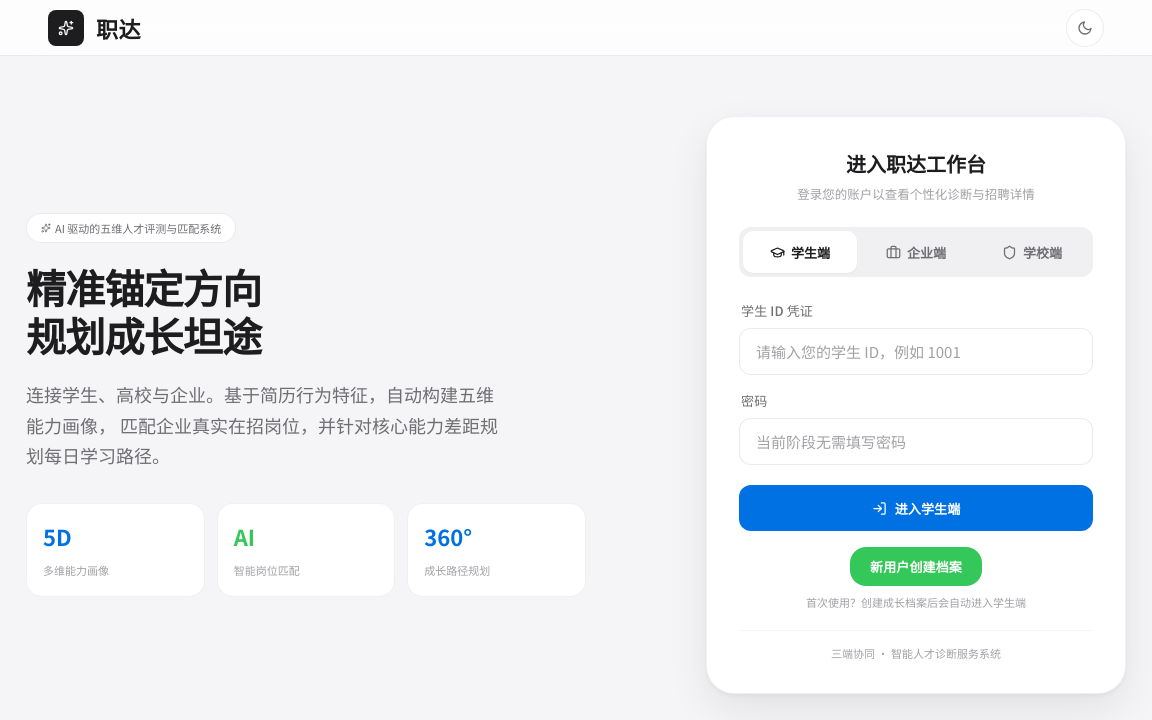
Test: Home - 企业登录状态校验 › 选择 disabled 企业提交时显示禁用提示
The image size is (1152, 720).
Click the button "企业端".
click(916, 252)  # box [859,231,973,273]
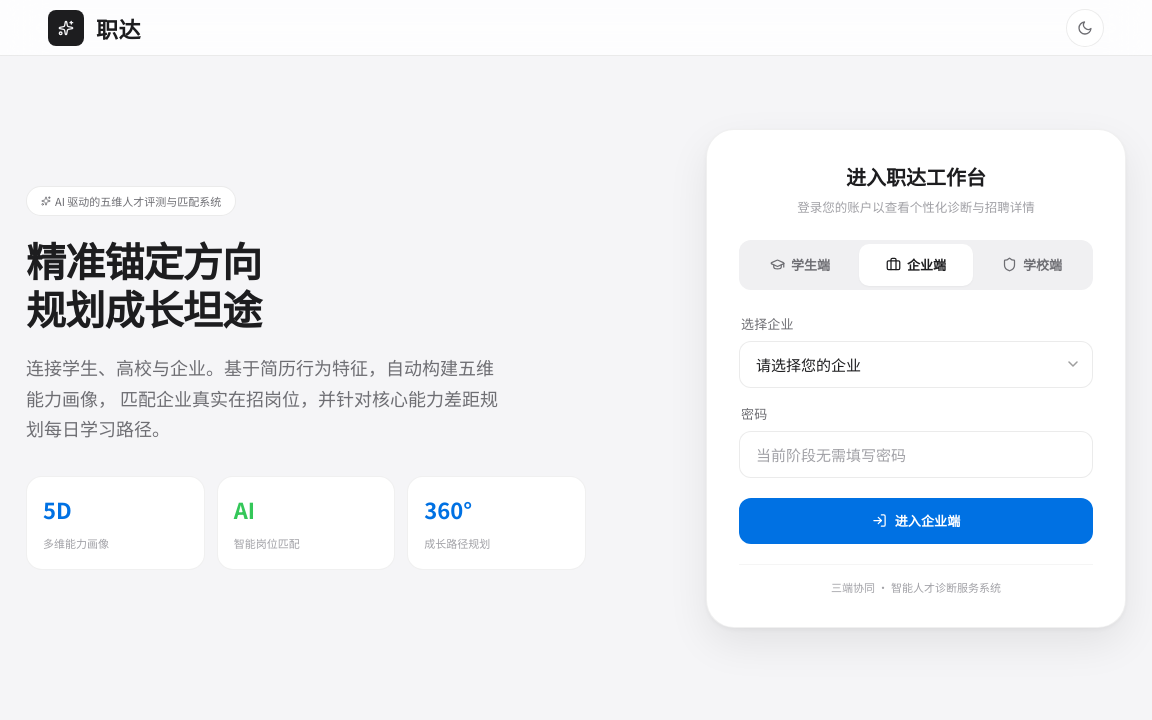
Select "已禁用企业（已禁用）" in the dropdown at (916, 364), box [739,340,1093,388]
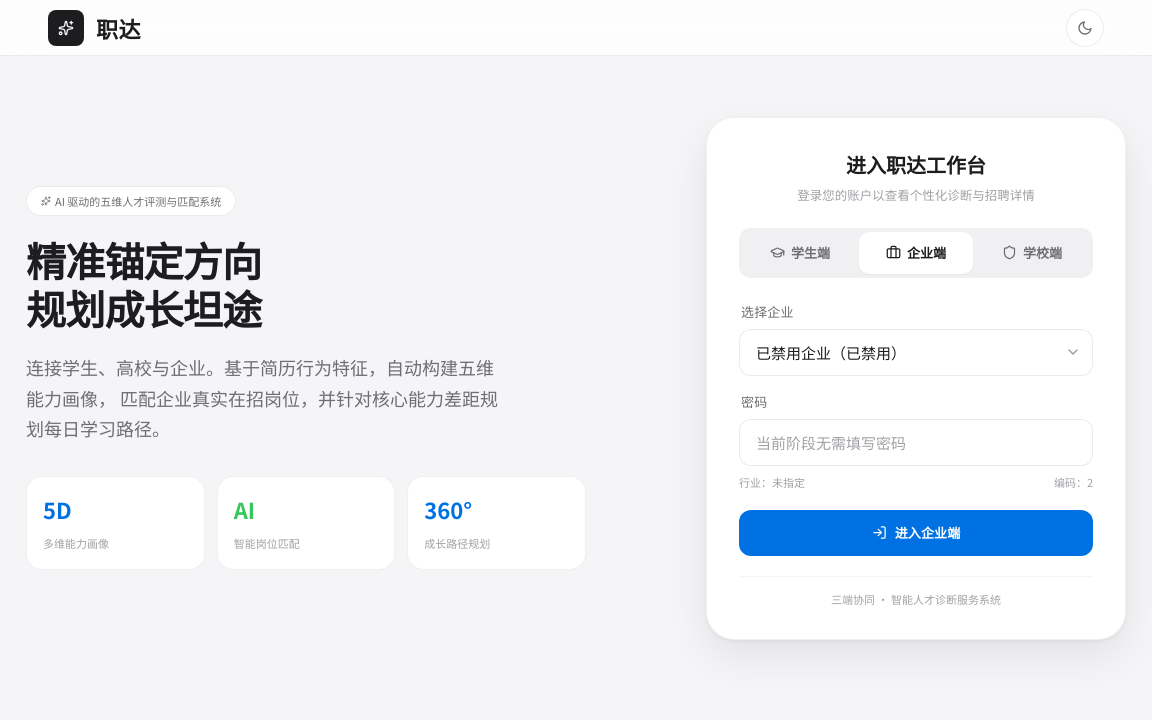
Click the button "进入企业端".
click(916, 532)  # box [739,510,1093,556]
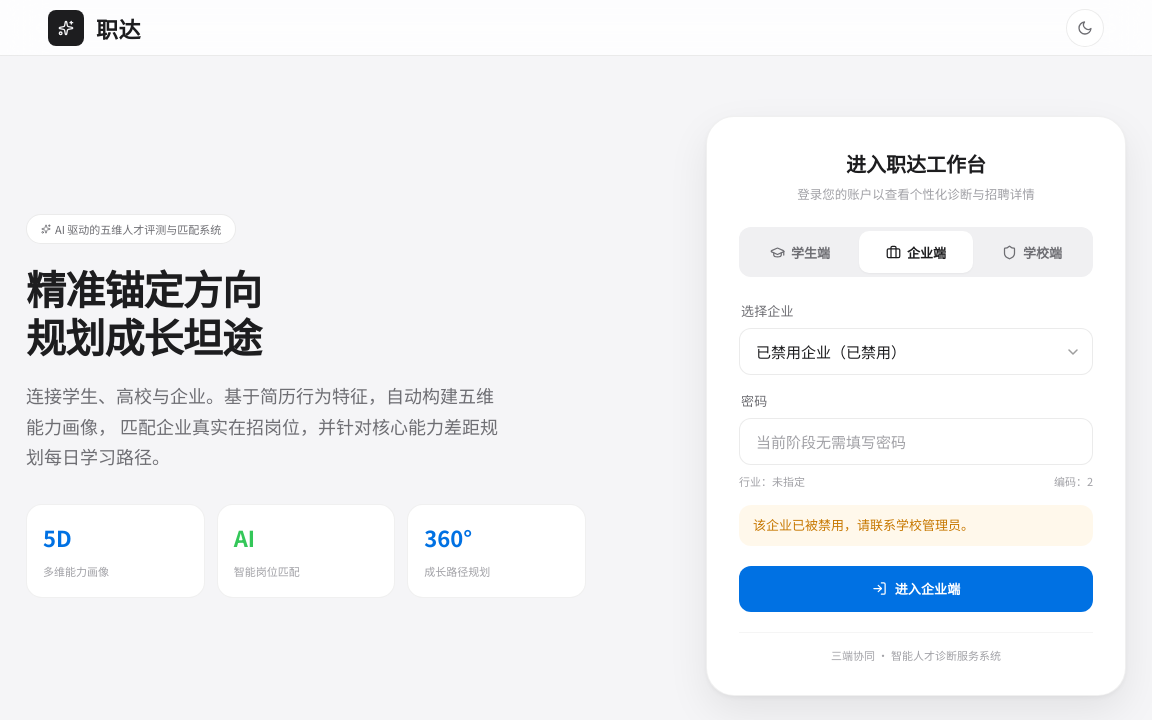
Check: the text "该企业已被禁用，请联系学校管理员。" is shown, box [739,505,1093,546]
